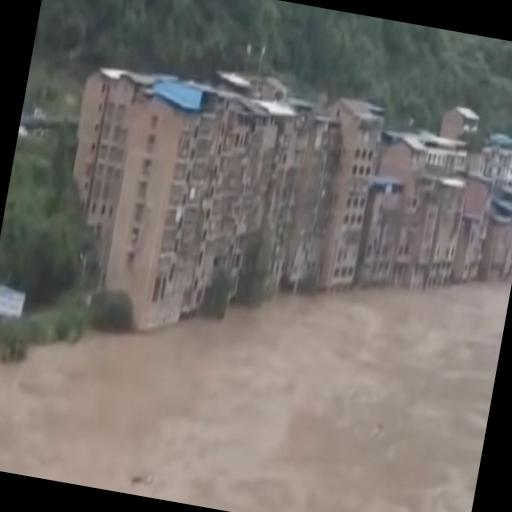flood: (0, 281, 512, 512)
house: (39, 58, 216, 316), (193, 82, 299, 316), (302, 94, 390, 294), (356, 168, 410, 288), (438, 102, 484, 148), (477, 130, 512, 182)
